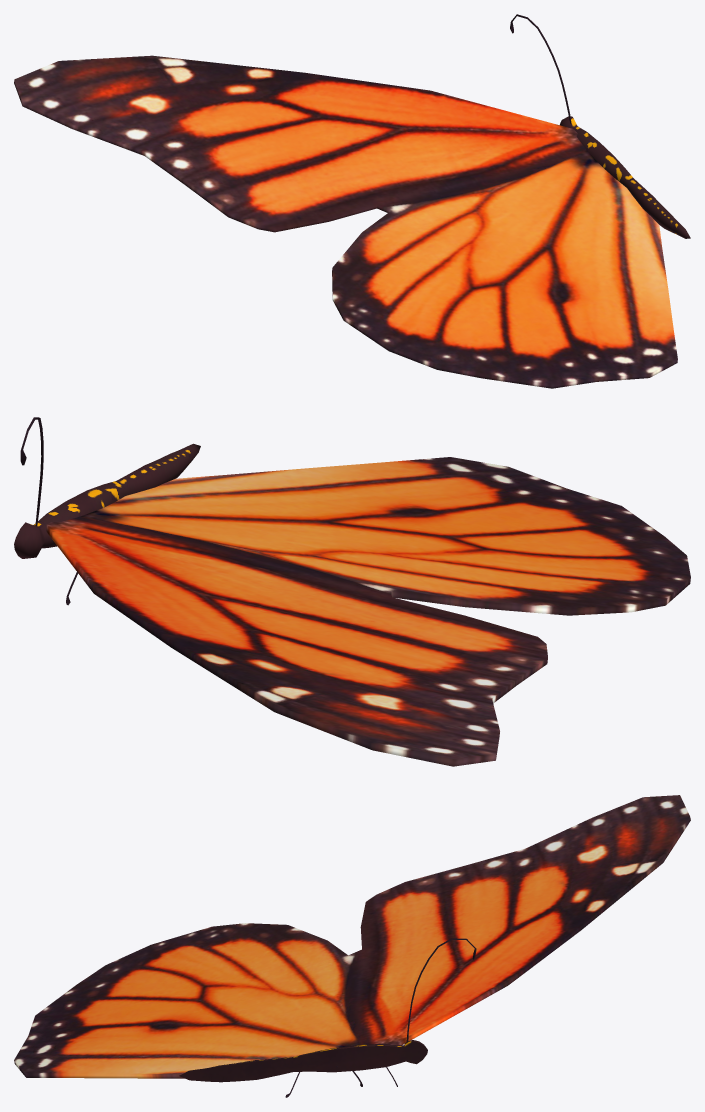
File: Half_Butterfly_Left.glb
3 views of the same model, one above another, from view 1: azimuth 30°, elevation 25°; view 2: azimuth 150°, elevation 25°; view 3: azimuth 270°, elevation 25° (orthographic). The views are drawn at different scales.
Parts seen in each view (by area): view 1: Half_Butterfly_Left; view 2: Half_Butterfly_Left; view 3: Half_Butterfly_Left.
Boxes of the visible parts, x1,y1,x2,y2 form: Half_Butterfly_Left: [14, 14, 690, 388]; Half_Butterfly_Left: [14, 417, 690, 766]; Half_Butterfly_Left: [14, 795, 690, 1097].
Size of the model in its own units: 1.89 by 0.7263 by 2.57.
Materials: 1 (1 with a texture image).
